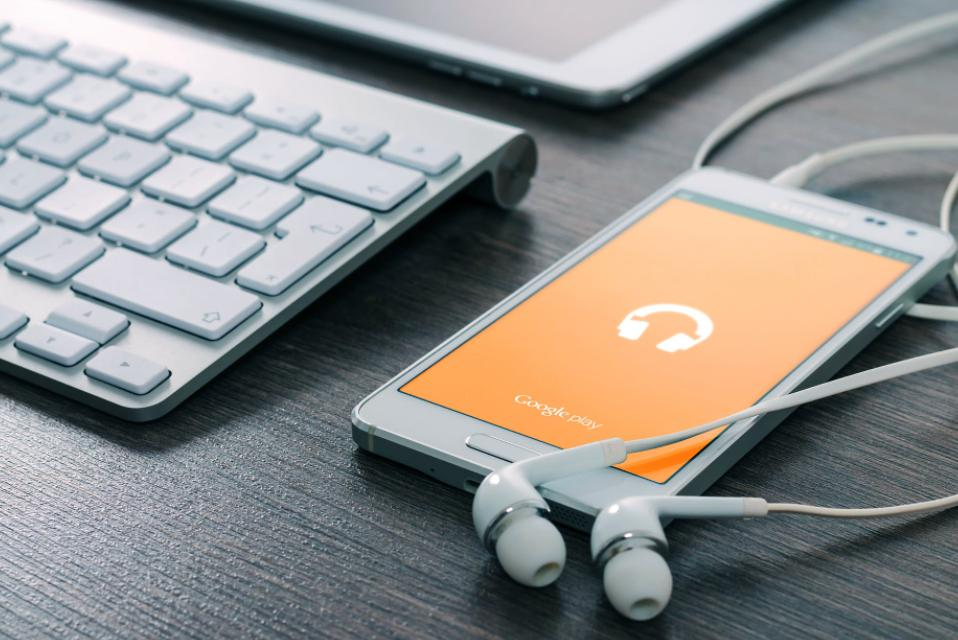mobile: (351, 165, 952, 528)
